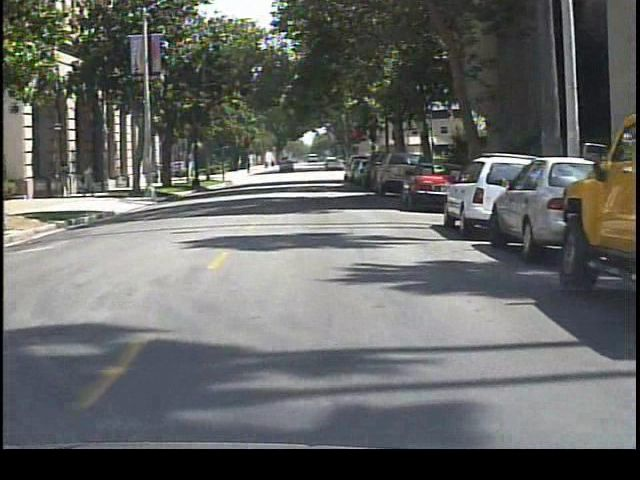person: (56, 156, 77, 197), (81, 160, 103, 199)
